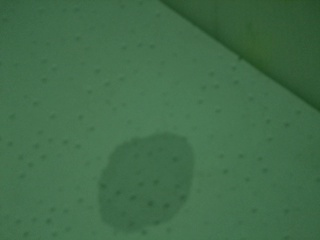Water_detected: (104, 136, 184, 212)
